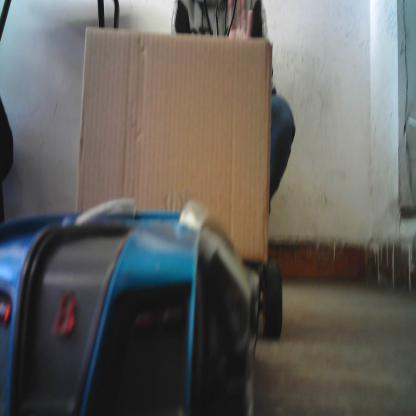LeadTruck: (75, 28, 290, 341)
